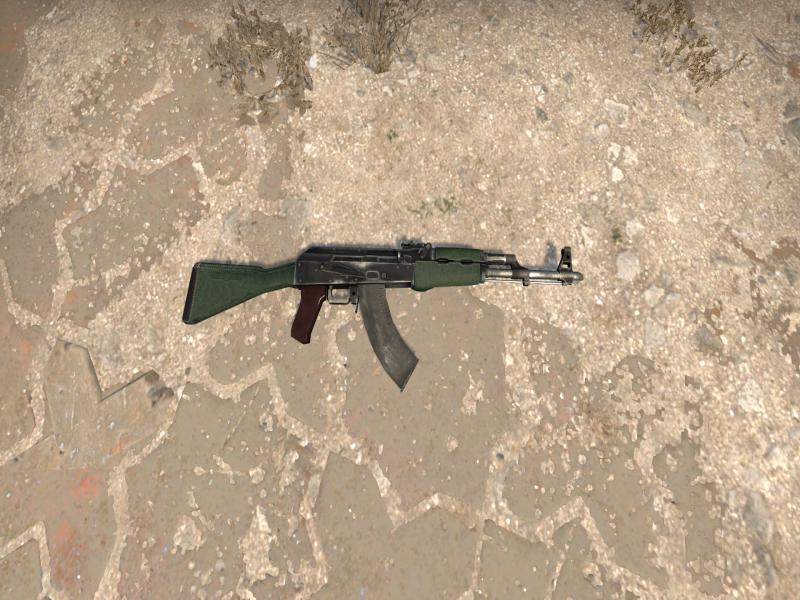AK47: (183, 241, 583, 389)
